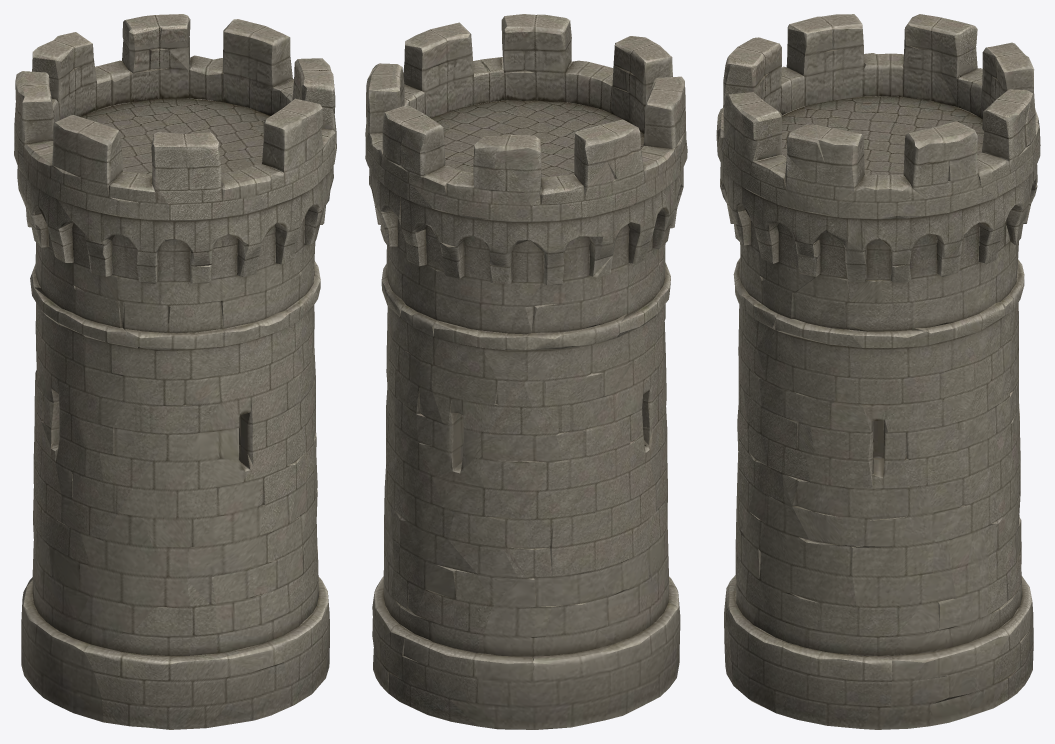
The model's file is wall_tower.glb.
The picture shows the model from 3 angles, left to right: view 1: azimuth 30°, elevation 25°; view 2: azimuth 150°, elevation 25°; view 3: azimuth 270°, elevation 25°; orthographic projection.
Parts seen in each view (by area): view 1: output_unwrapped; view 2: output_unwrapped; view 3: output_unwrapped.
Boxes of the visible parts, box(x1,y1,x2,y2) form: output_unwrapped: box(14, 14, 336, 729); output_unwrapped: box(365, 14, 687, 729); output_unwrapped: box(716, 14, 1040, 729).
Bounding box in the file's own units: 0.945 × 1.9 × 0.9471.
1 material, 1 textured.
